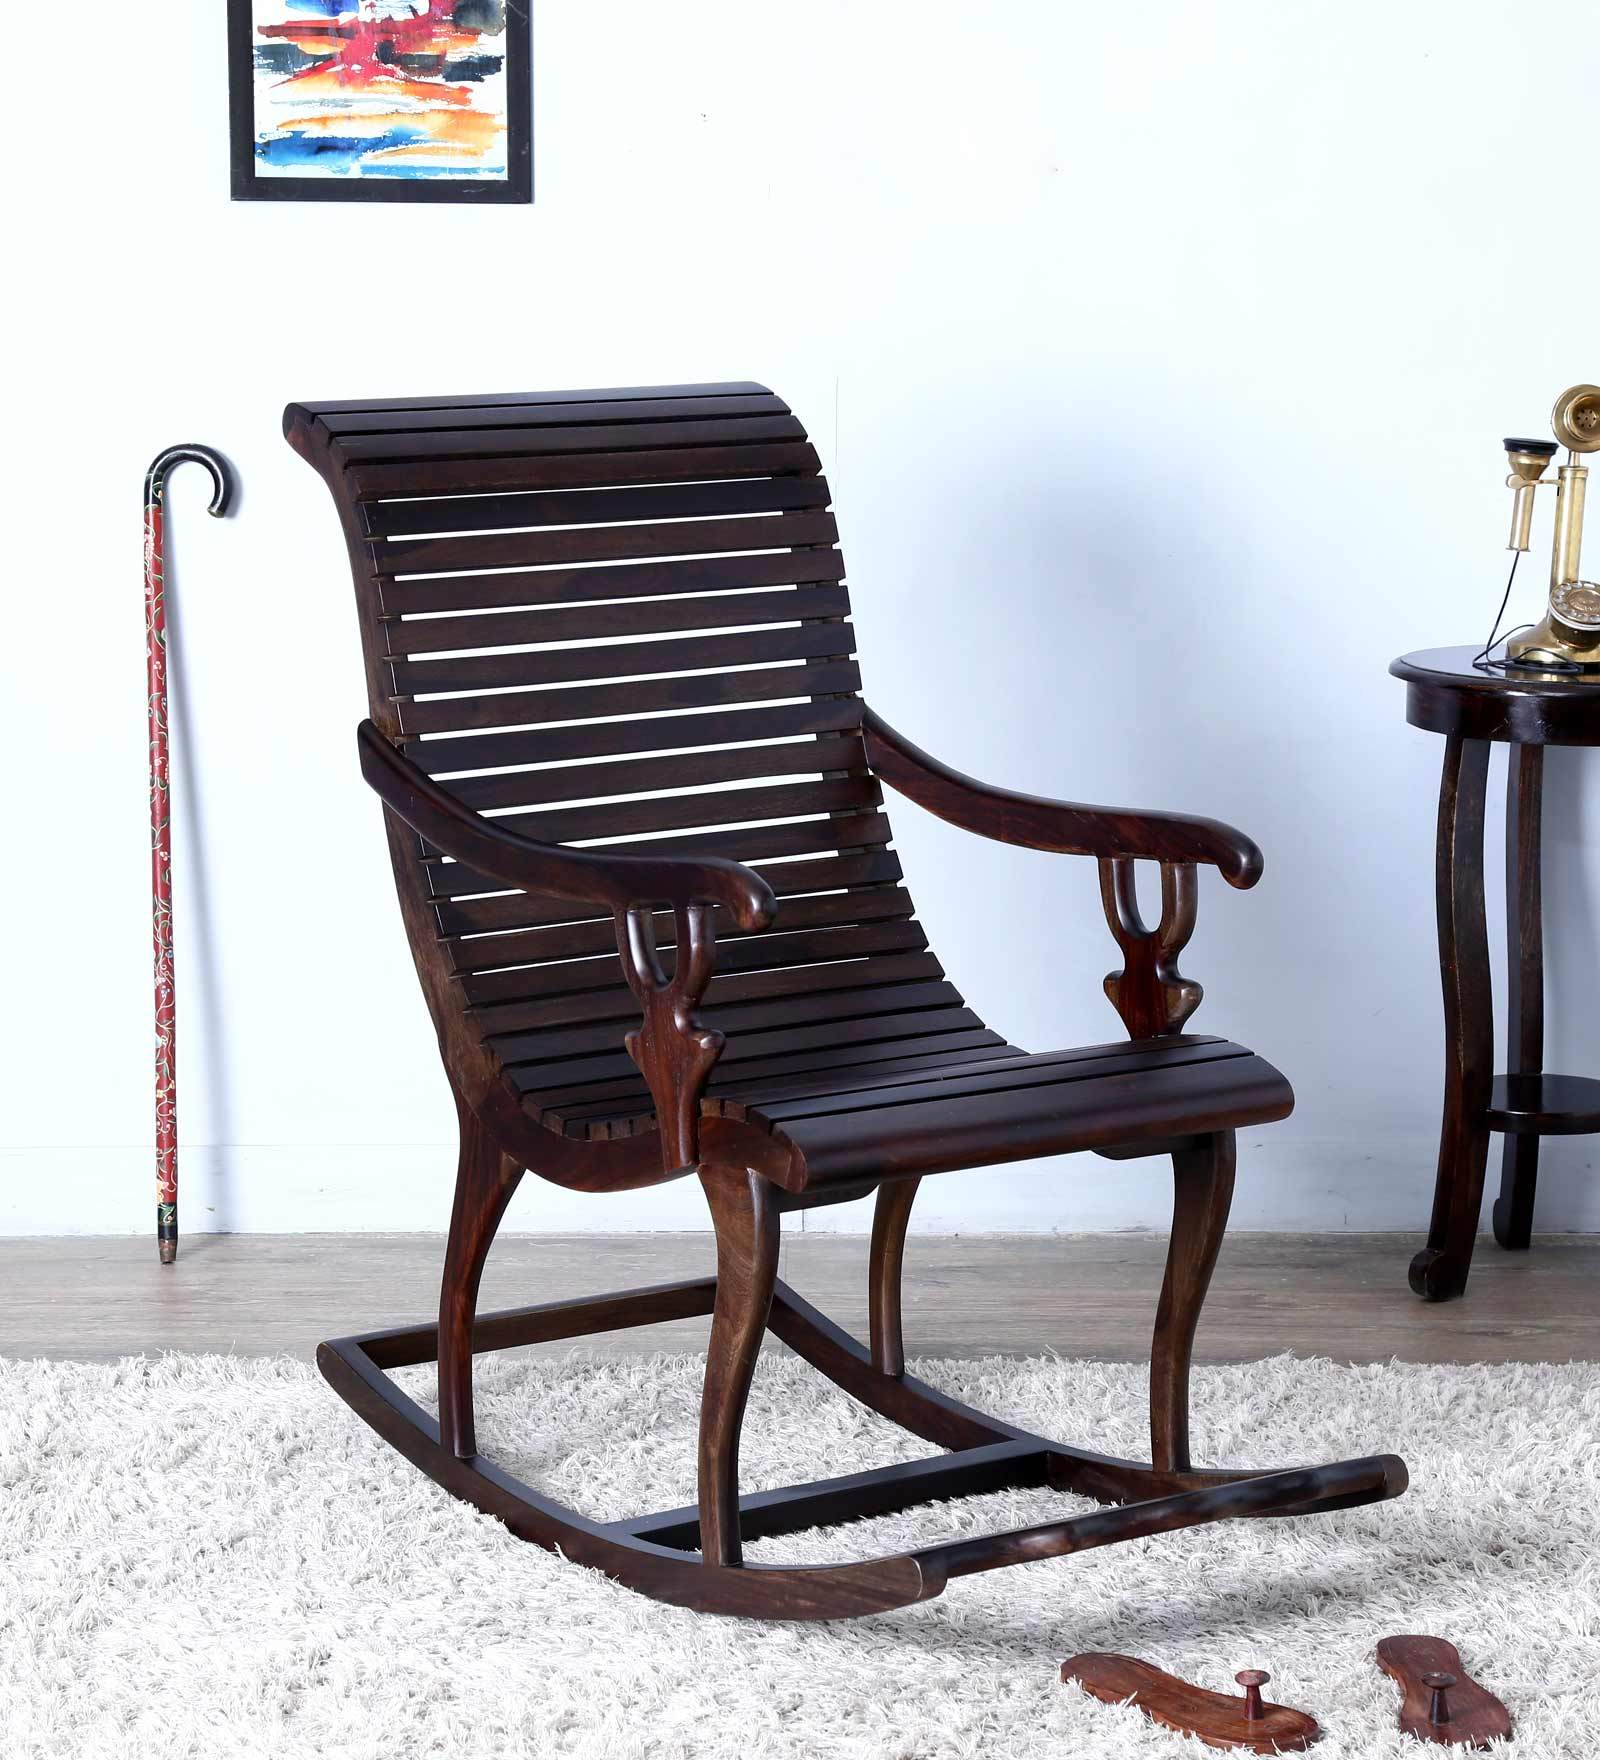Acklom Rocking Chair in Warm Chestnut Finish by Amberville: (254, 328, 1436, 1639)
